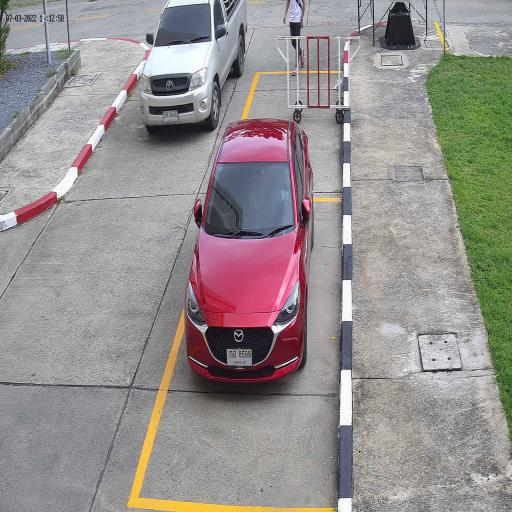car: (184, 116, 314, 383), (139, 0, 248, 137)
